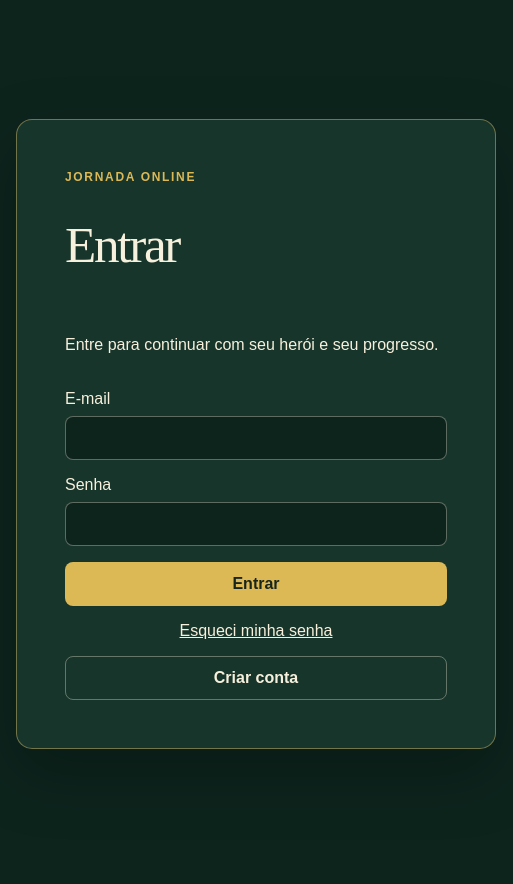
Scenario: Auth sign in contract › does not pretend registration authenticated when confirmation is still required
The image size is (513, 884).
Step 1. Click the button "Criar conta" → (256, 678), box [65,656,447,700]
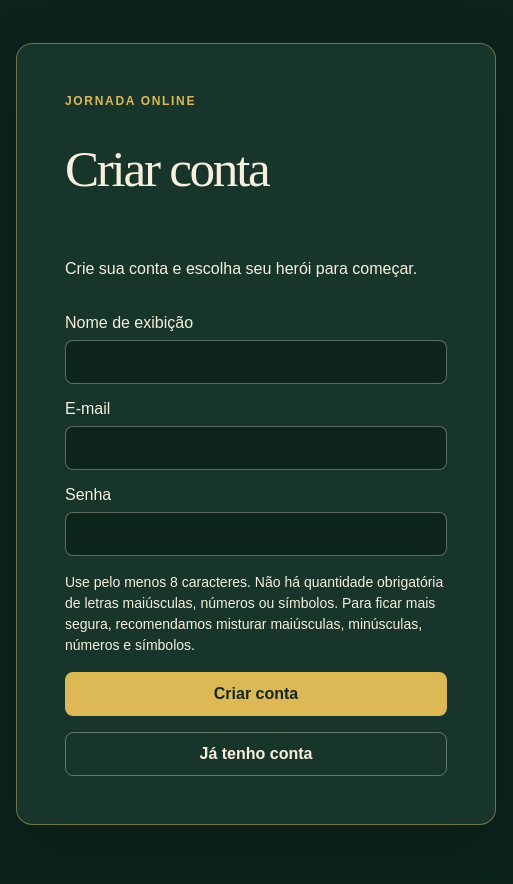
Step 2. Type "Ana" into the field labelled "Nome de exibição" → (256, 362), box [65,340,447,384]
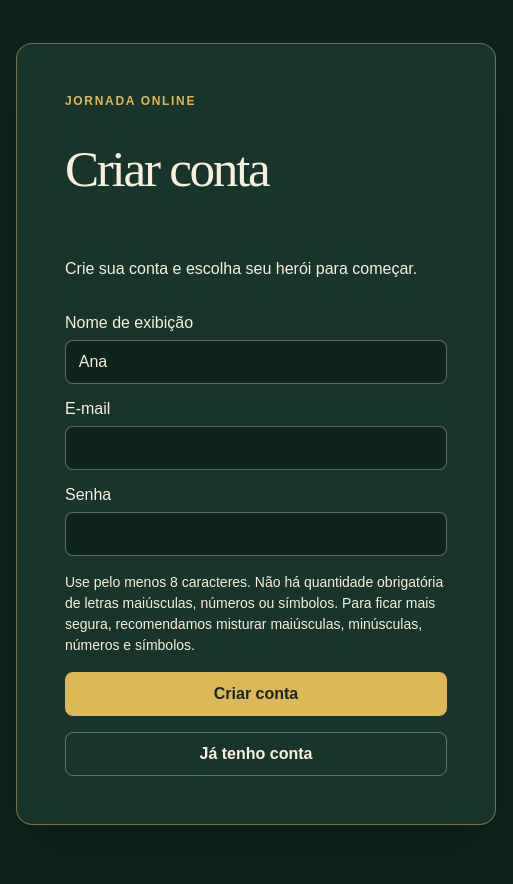
Step 3. Type "ana@example.com" into the field labelled "E-mail" → (256, 448), box [65,426,447,470]
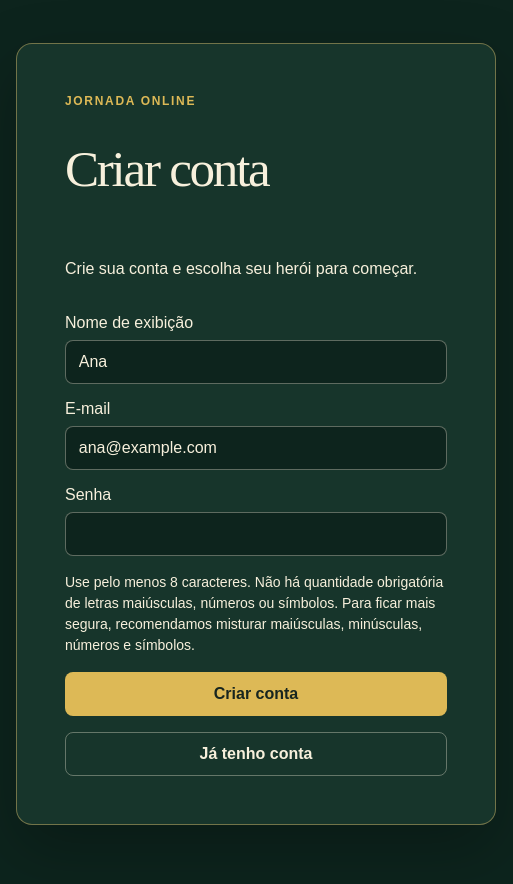
Step 4. Type "senha-segura" into the password field labelled "Senha" → (256, 534), box [65,512,447,556]
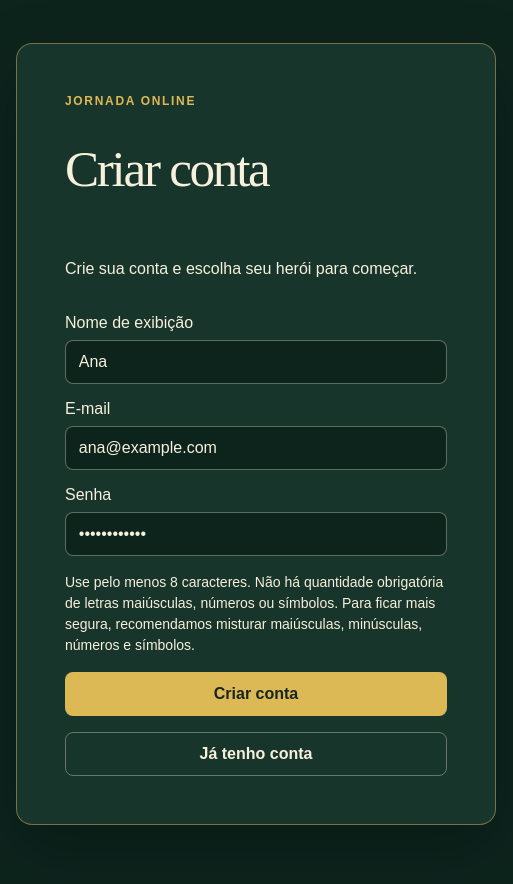
Step 5. Click the button "Criar conta" → (256, 694), box [65,672,447,716]
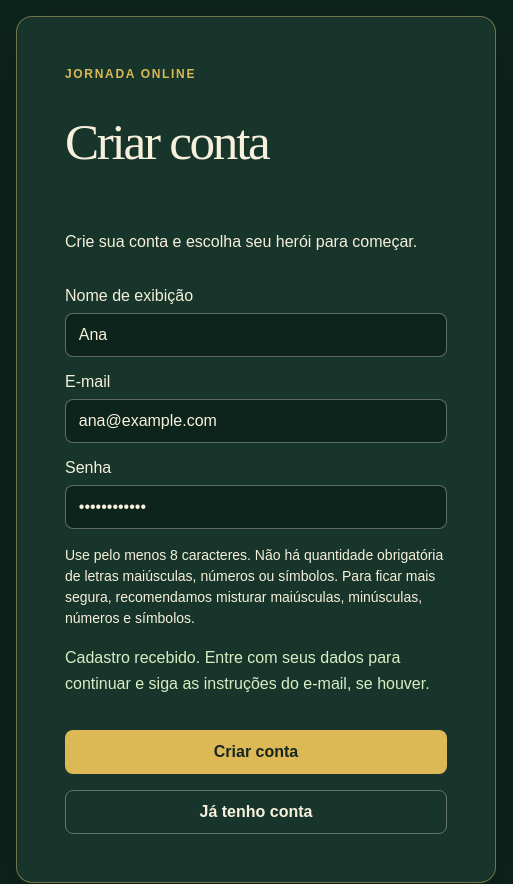
Now the message shows "Cadastro recebido.", box [65,649,430,692]
